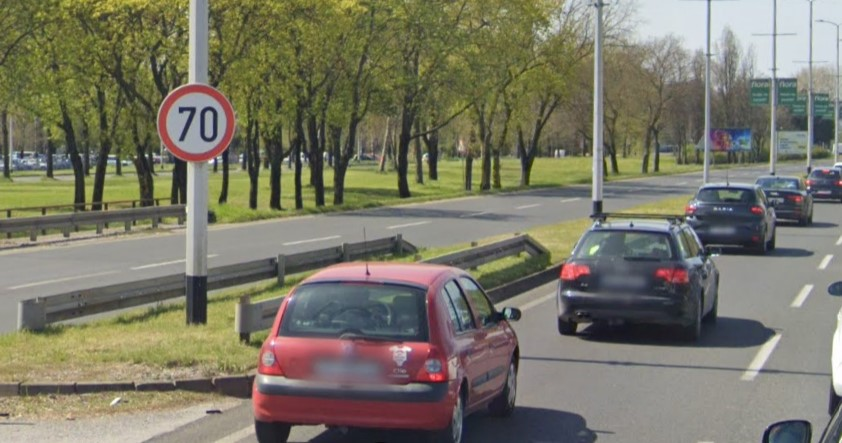Ograničenje brzine 70: (156, 83, 236, 162)
